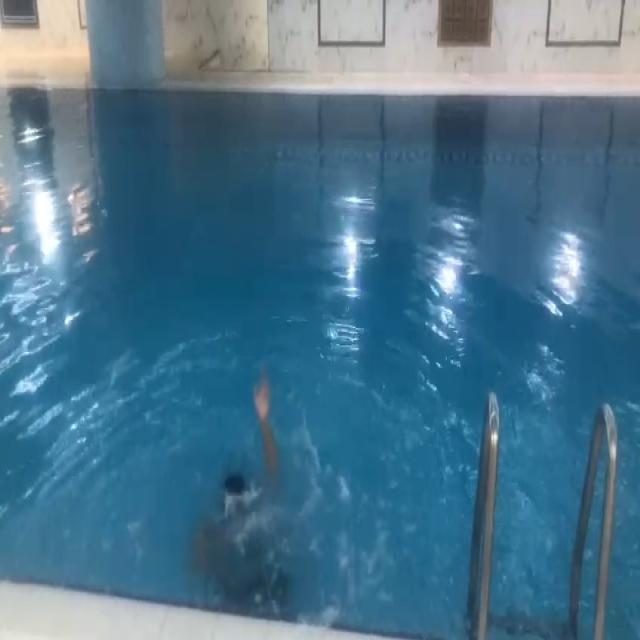Drowning: (196, 380, 284, 530)
